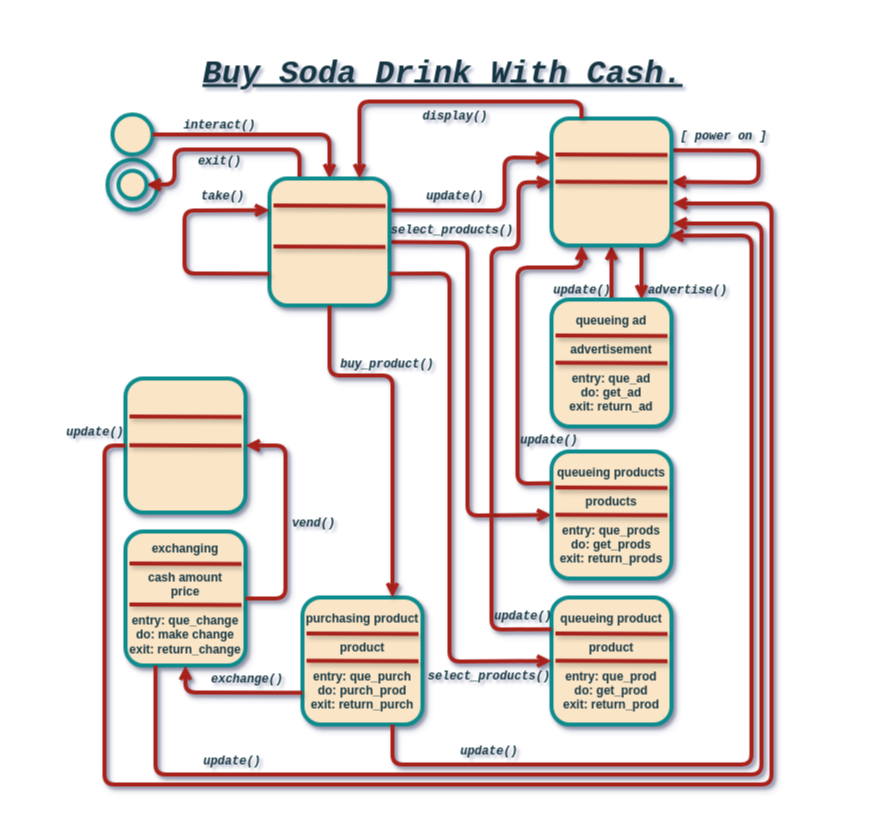
This 894x824 diagram has some shape labels left out. The shapes that lost their labels are listed below. From the top down, each one's centre as x and y in pixels, then its label:
the point at 612,183: displaying objects entry: pow == True do: update_display exit: pow == False
the point at 330,243: interacting display objects entry: interact do: input exit: interacted
the point at 186,446: vending item entry: que_vend do: vend_item exit: return_item
